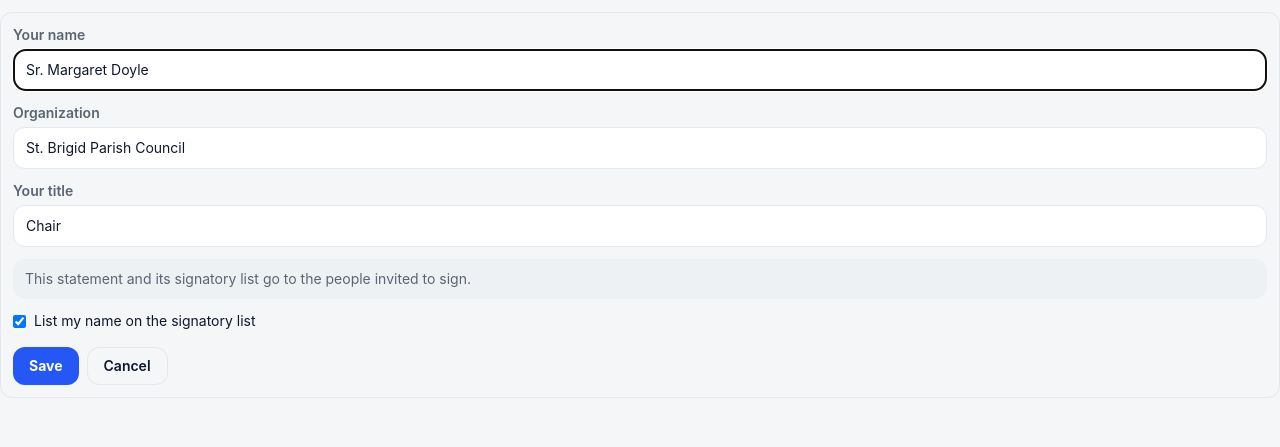
Scenario: EditSignatureForm — Save takes one press › shows the server's message instead of failing silently
Click the button "Save" at (46, 366), box x1=13 y1=347 x2=78 y2=385
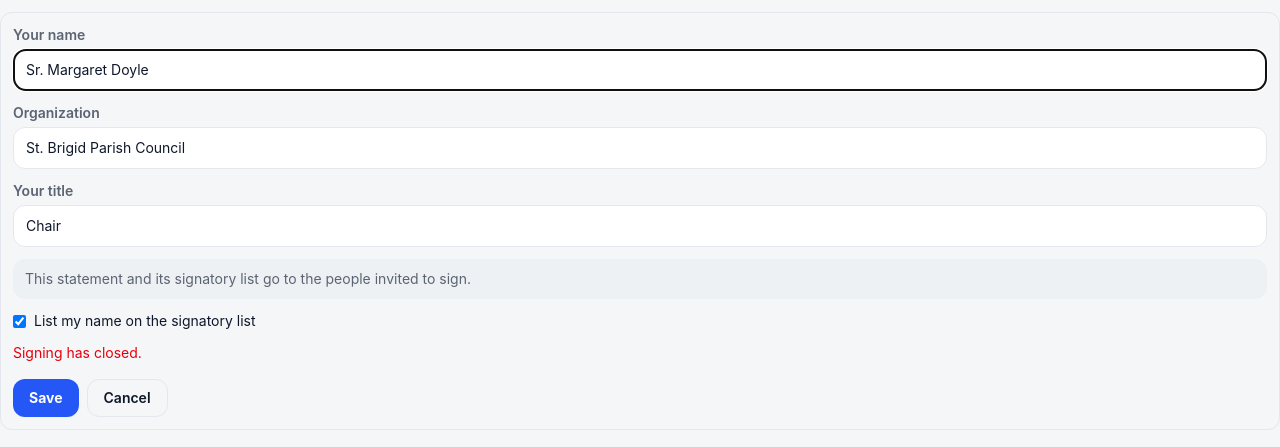
Now the message reads "Signing has closed.", box x1=13 y1=344 x2=142 y2=361
